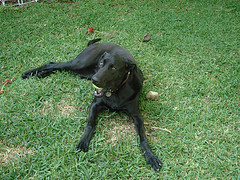tennis ball: (92, 80, 103, 90)
